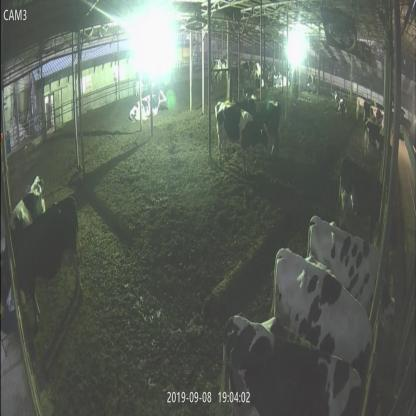cow: (219, 315, 363, 415), (274, 246, 373, 371), (11, 197, 82, 322), (308, 215, 380, 306), (215, 102, 270, 174), (339, 158, 384, 218), (11, 175, 46, 232), (129, 89, 166, 119), (264, 101, 282, 160), (365, 117, 384, 155)
